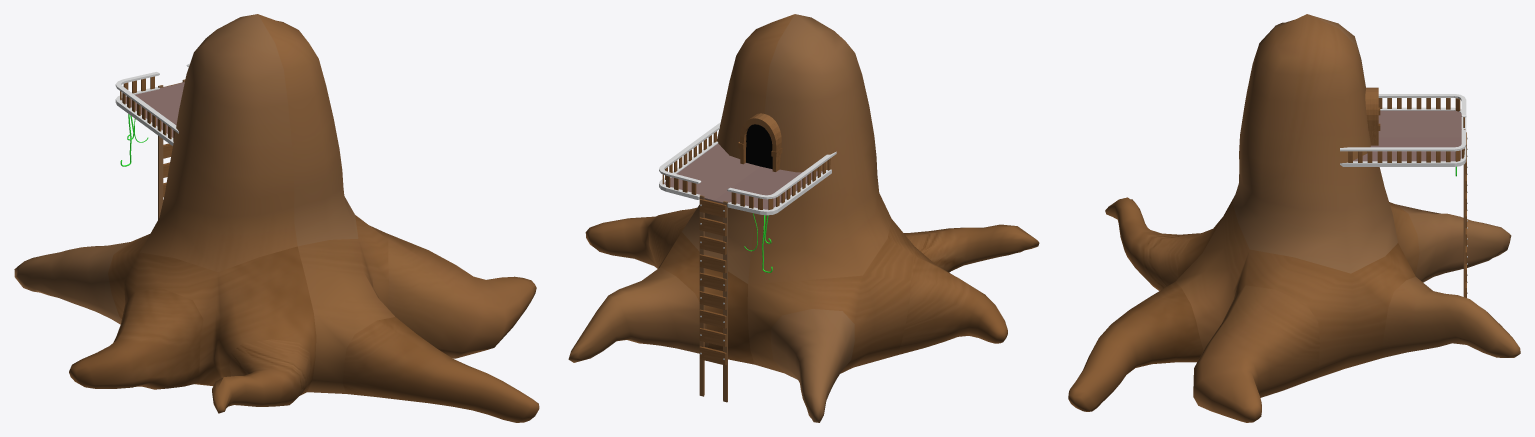
Rendered from CASADOLINKblend.fbx.
The picture shows the model from 3 angles, left to right: view 1: azimuth 30°, elevation 25°; view 2: azimuth 150°, elevation 25°; view 3: azimuth 270°, elevation 25°; orthographic projection. The views are drawn at different scales.
Parts seen in each view (by area): view 1: Plane, Plane.001, Plane.005, Plane.003, Plane.002; view 2: Plane, Plane.001, Plane.008, Cylinder.001, Plane.003, Plane.002, Plane.005, Plane.004, Plane.007, Plane.006; view 3: Plane, Plane.001, Plane.003, Plane.002, Plane.004, Cylinder.001, Plane.005.
Part boxes in pixels (x1,y1,x2,y2): Plane: [14, 14, 539, 422]; Plane.001: [121, 82, 184, 137]; Plane.005: [120, 76, 175, 141]; Plane.003: [115, 63, 189, 133]; Plane.002: [115, 87, 173, 145]; Plane: [568, 14, 1039, 422]; Plane.001: [664, 143, 822, 209]; Plane.008: [699, 199, 726, 365]; Cylinder.001: [738, 113, 782, 171]; Plane.003: [659, 123, 836, 199]; Plane.002: [659, 141, 831, 215]; Plane.005: [731, 158, 830, 209]; Plane.004: [662, 131, 716, 194]; Plane.007: [723, 201, 727, 402]; Plane.006: [699, 195, 704, 396]; Plane: [1068, 14, 1520, 422]; Plane.001: [1353, 110, 1461, 161]; Plane.003: [1340, 94, 1466, 151]; Plane.002: [1340, 107, 1466, 166]; Plane.004: [1348, 148, 1464, 162]; Cylinder.001: [1365, 87, 1380, 145]; Plane.005: [1378, 98, 1464, 127].
Bounding box in the file's own units: 7353 × 5563 × 6878.
